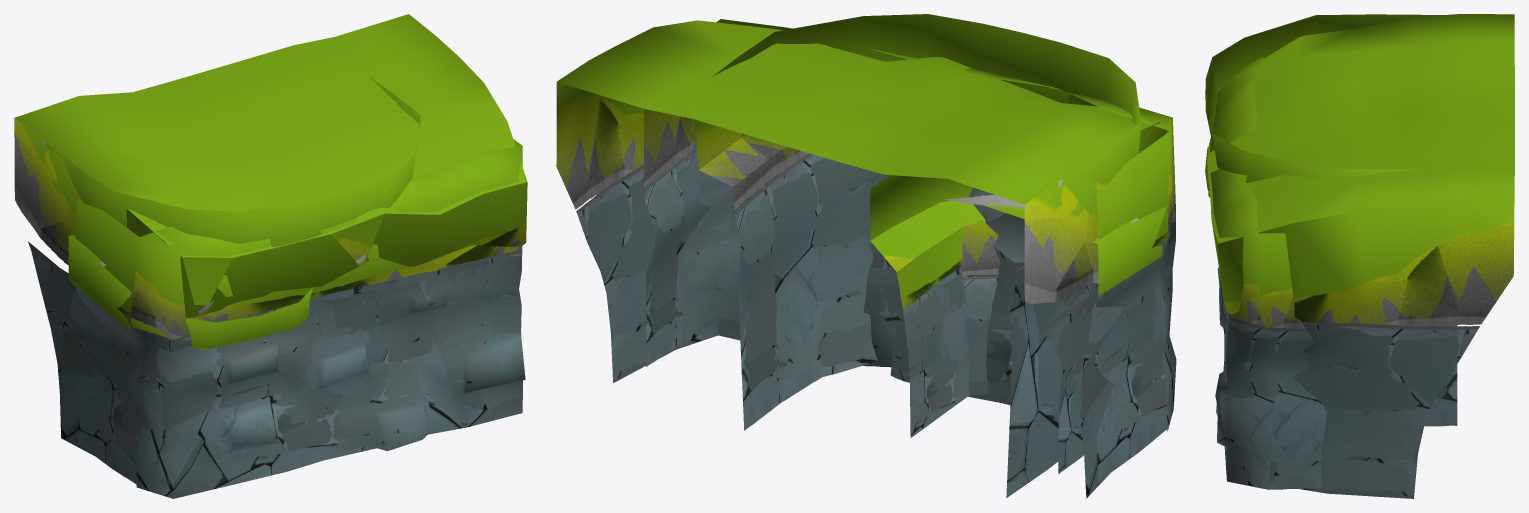
The model's file is rocks_walls.fbx.
3 renders of one model, left to right at view 1: azimuth 30°, elevation 25°; view 2: azimuth 150°, elevation 25°; view 3: azimuth 270°, elevation 25°, orthographic. The views are drawn at different scales.
Parts seen in each view (by area): view 1: r_wall01, r_wall02, r_wall03, r_wall04; view 2: r_wall02, r_wall03, r_wall01, r_wall04; view 3: r_wall02, r_wall01, r_wall03.
Part boxes in pixels (<box>): r_wall01: <box>75,139,525,498</box>; r_wall02: <box>14,14,527,455</box>; r_wall03: <box>42,77,420,246</box>; r_wall04: <box>68,235,312,349</box>; r_wall02: <box>556,20,1166,498</box>; r_wall03: <box>694,14,1141,497</box>; r_wall01: <box>643,19,1176,481</box>; r_wall04: <box>870,175,1169,473</box>; r_wall02: <box>1207,14,1514,498</box>; r_wall01: <box>1208,57,1327,489</box>; r_wall03: <box>1205,14,1457,426</box>.
Size of the model in its own units: 6.91 by 4.84 by 4.56.
